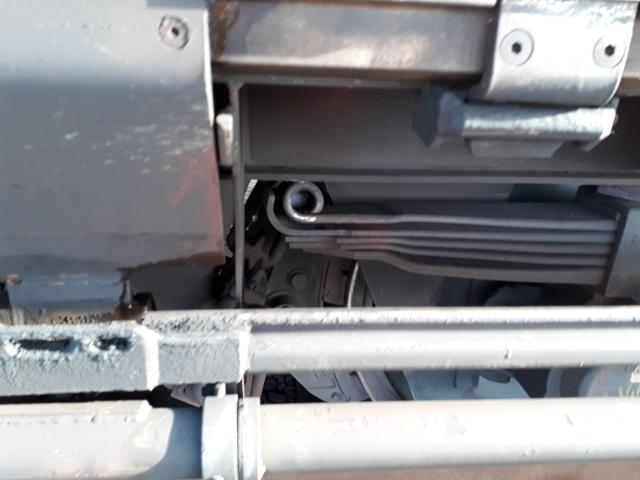blattfederww: (259, 185, 595, 285)
